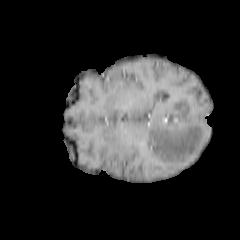glioma: (146, 117, 205, 163)
